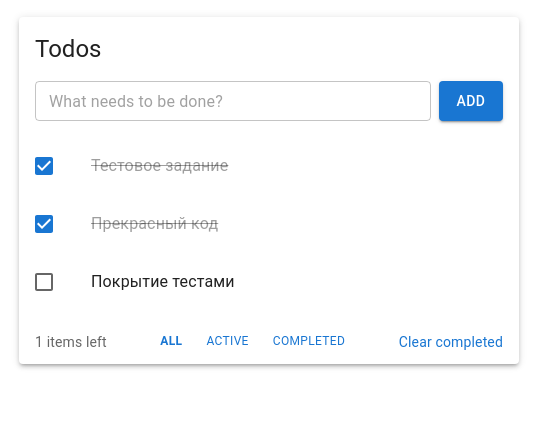
Test case: Todo Component › adds new task
Type "Новая задача" into the field with placeholder "What needs to be done?".
click(233, 101); type("Новая задача")  # box [35,81,431,121]
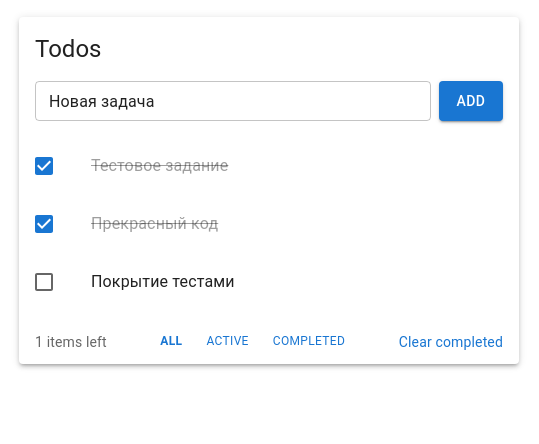
Click the button "Add".
click(471, 101)  # box [439,81,503,121]
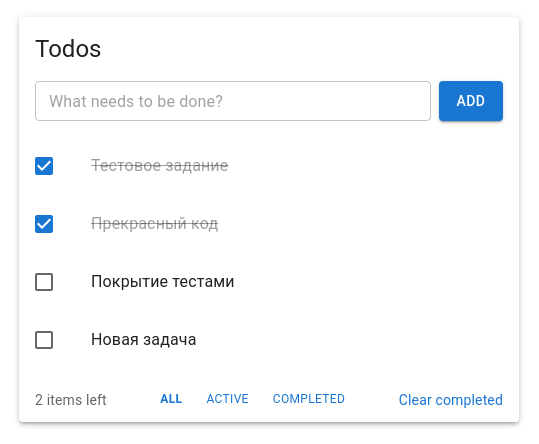
Now the text "Новая задача" is shown, box [91,330,196,349]
